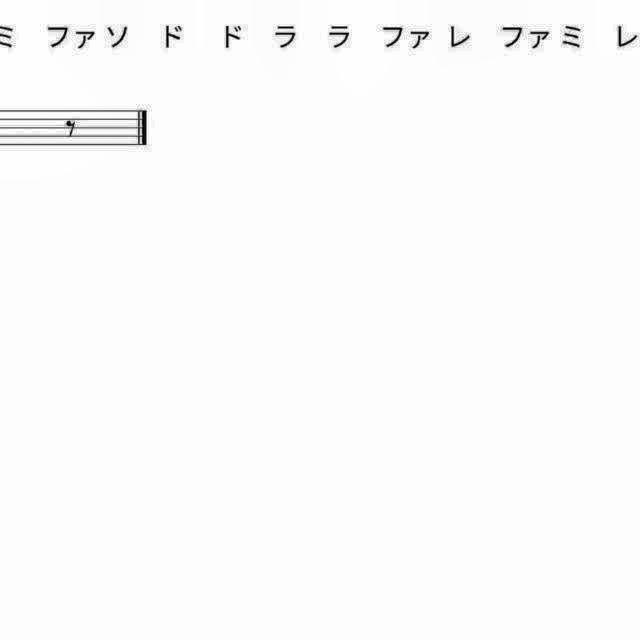Eighth-rest: (61, 116, 84, 144)
